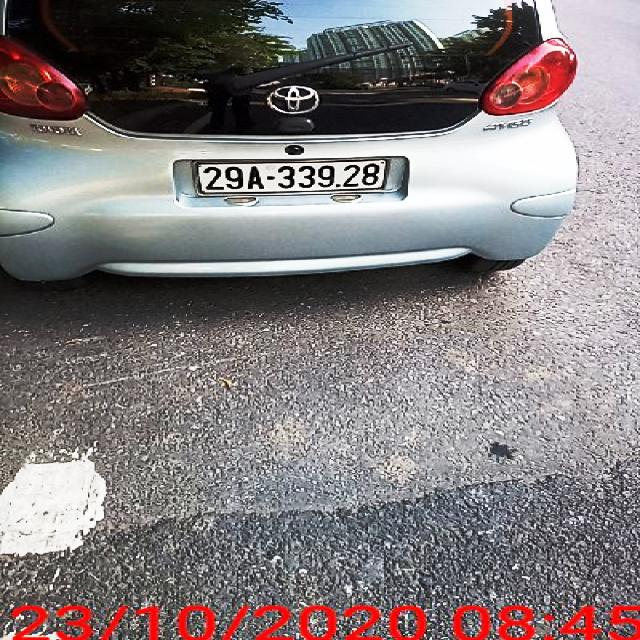license_plate: (197, 159, 394, 199)
